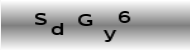6: (117, 11, 130, 22)
G: (77, 13, 93, 27)
S: (32, 11, 48, 26)
d: (50, 22, 65, 36)
y: (101, 28, 116, 42)
